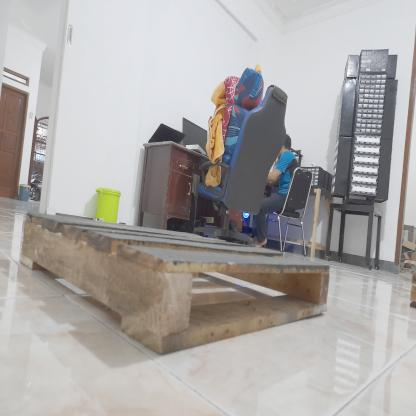Wooden-Pallet: (15, 208, 332, 361)
